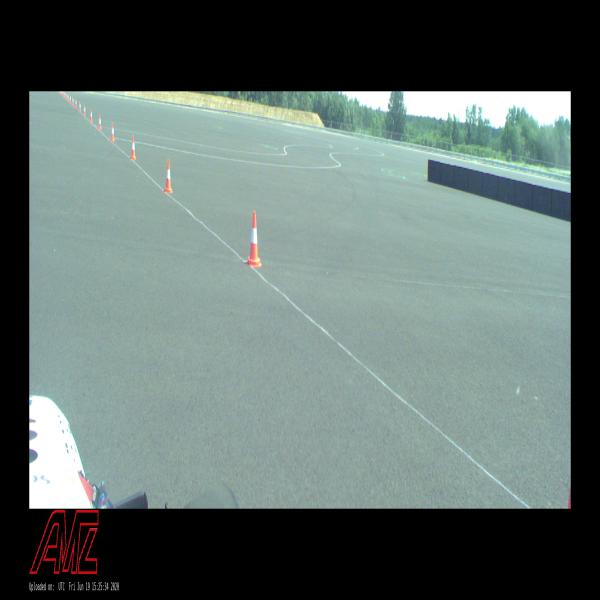orange_cone: (246, 213, 260, 266), (164, 160, 173, 192), (131, 136, 136, 158), (110, 122, 115, 141), (98, 115, 102, 130), (89, 109, 93, 122), (78, 102, 82, 112), (83, 105, 86, 115), (75, 98, 77, 108), (72, 97, 74, 105), (67, 94, 69, 100), (65, 93, 67, 99), (70, 96, 71, 102)
